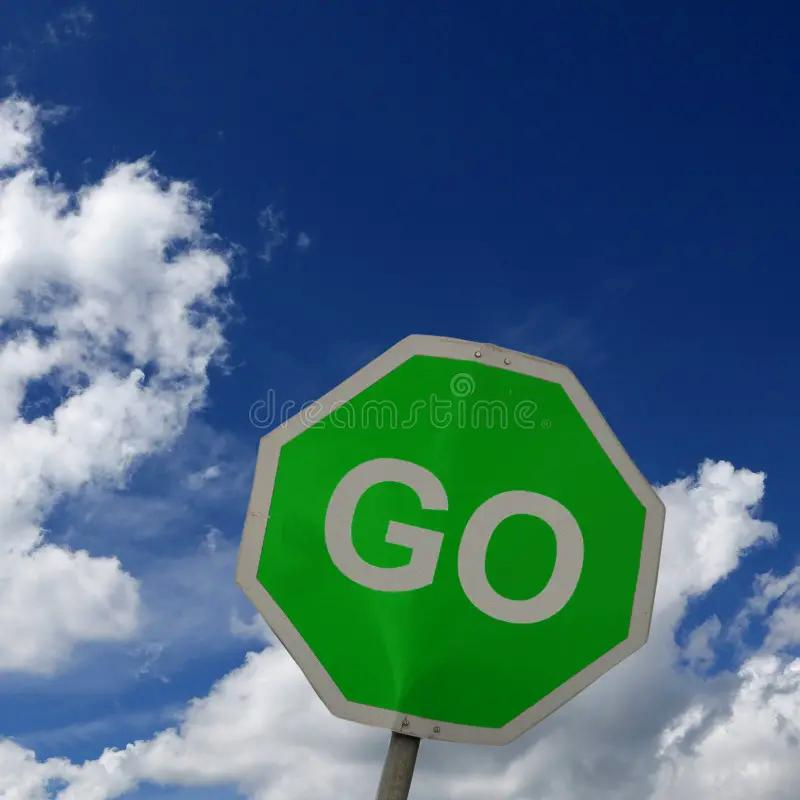Go: (259, 349, 639, 728)
